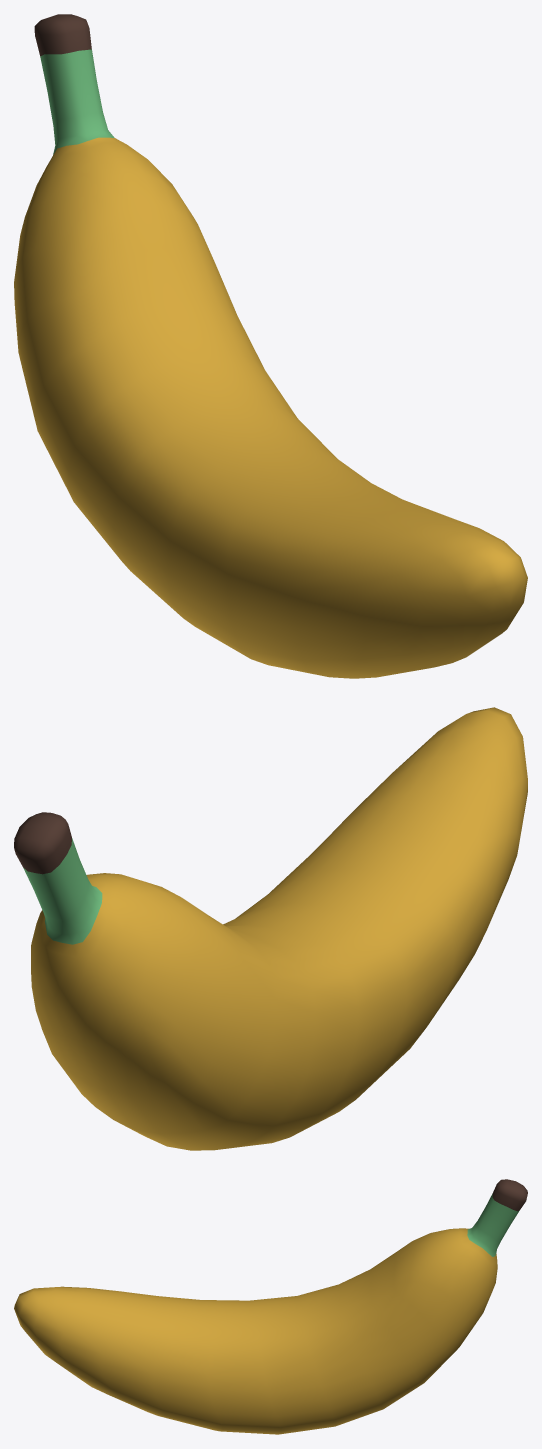
The model's file is Banana_01.dae.
The picture shows the model from 3 angles, top to bottom: view 1: azimuth 30°, elevation 25°; view 2: azimuth 150°, elevation 25°; view 3: azimuth 270°, elevation 25°; orthographic projection. The views are drawn at different scales.
Visible parts, largest first — view 1: Banana_01_LOD0; view 2: Banana_01_LOD0; view 3: Banana_01_LOD0.
Boxes of the visible parts, x1,y1,x2,y2 form: Banana_01_LOD0: (14, 14, 527, 678); Banana_01_LOD0: (14, 707, 527, 1150); Banana_01_LOD0: (14, 1179, 527, 1434).
Size of what is drawn, in the model's own units: 2.16 by 8.37 by 4.47.
